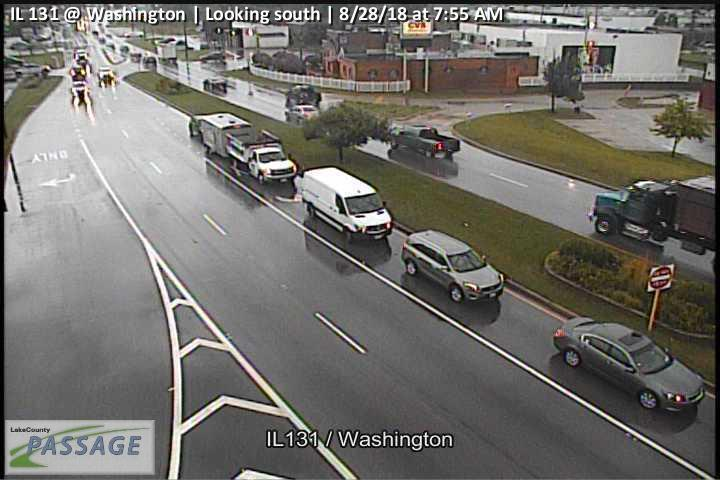SUV: (401, 229, 504, 302)
Sedan: (552, 315, 706, 412)
Truck: (592, 174, 720, 257), (188, 109, 297, 185), (301, 165, 394, 242), (386, 121, 461, 160)
